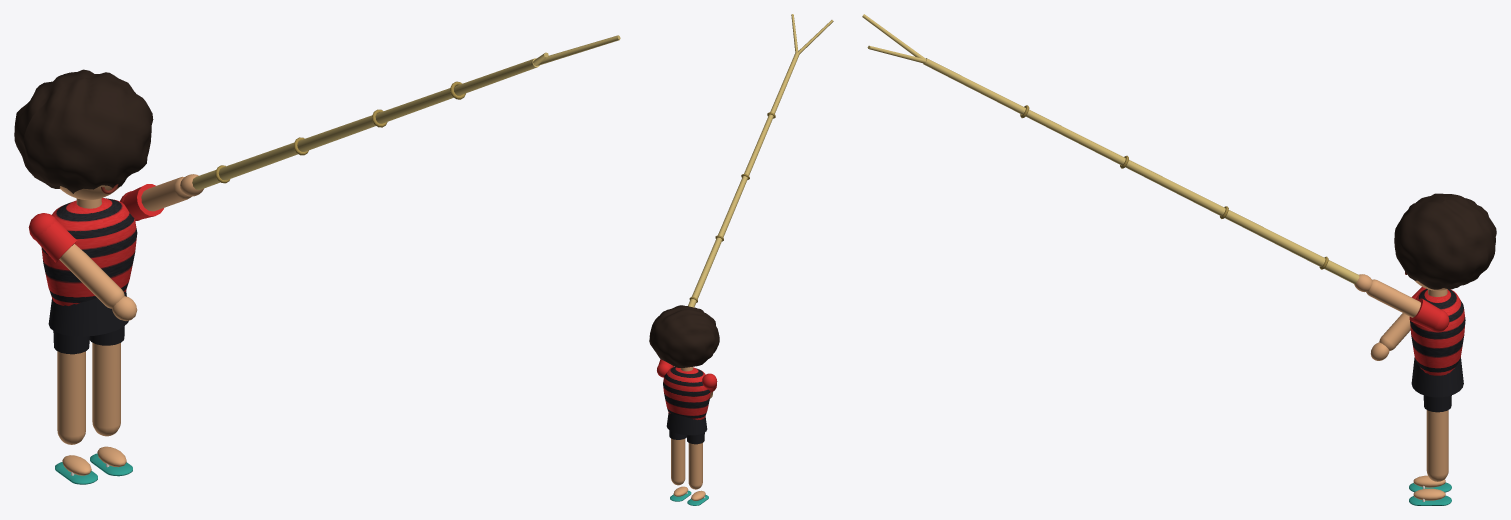
Rendered from figurante-com-vara.glb.
3 views of the same model, side by side, from view 1: azimuth 30°, elevation 25°; view 2: azimuth 150°, elevation 25°; view 3: azimuth 270°, elevation 25° (orthographic). The views are drawn at different scales.
Parts seen in each view (by area): view 1: figurante-com-vara; view 2: figurante-com-vara; view 3: figurante-com-vara.
Part boxes in pixels (x1=…): figurante-com-vara: x1=14, y1=35, x2=620, y2=484; figurante-com-vara: x1=649, y1=14, x2=833, y2=505; figurante-com-vara: x1=862, y1=14, x2=1496, y2=505.
Size of the model in its own units: 1.21 by 3.47 by 3.88.
Materials: 14 (1 with a texture image).
